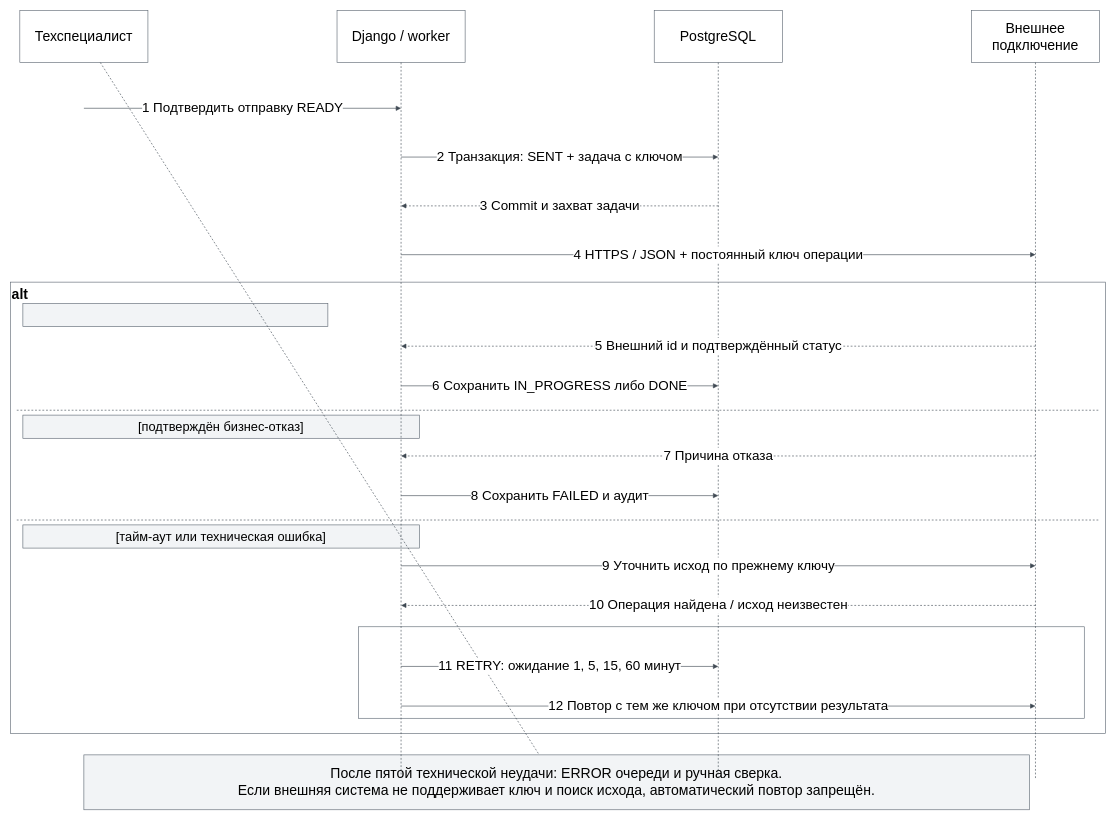
The diagram is 1116 pixels wide and 820 high, and some of its shapes have lost their labels. Here are the shapes that lost their labels. From the top down, the centre of each, then its label:
At (175,315): "[операция принята]".
At (721,672): "loop [исход неизвестен, attempts < 5]".
